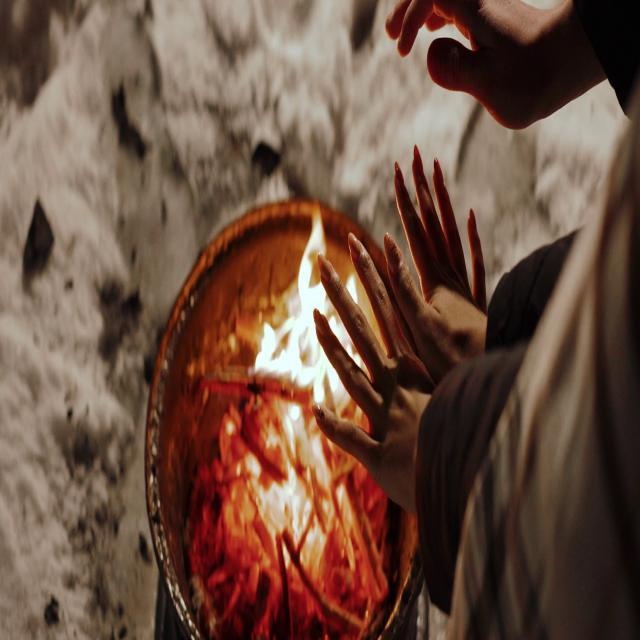Fire: (246, 184, 354, 537)
